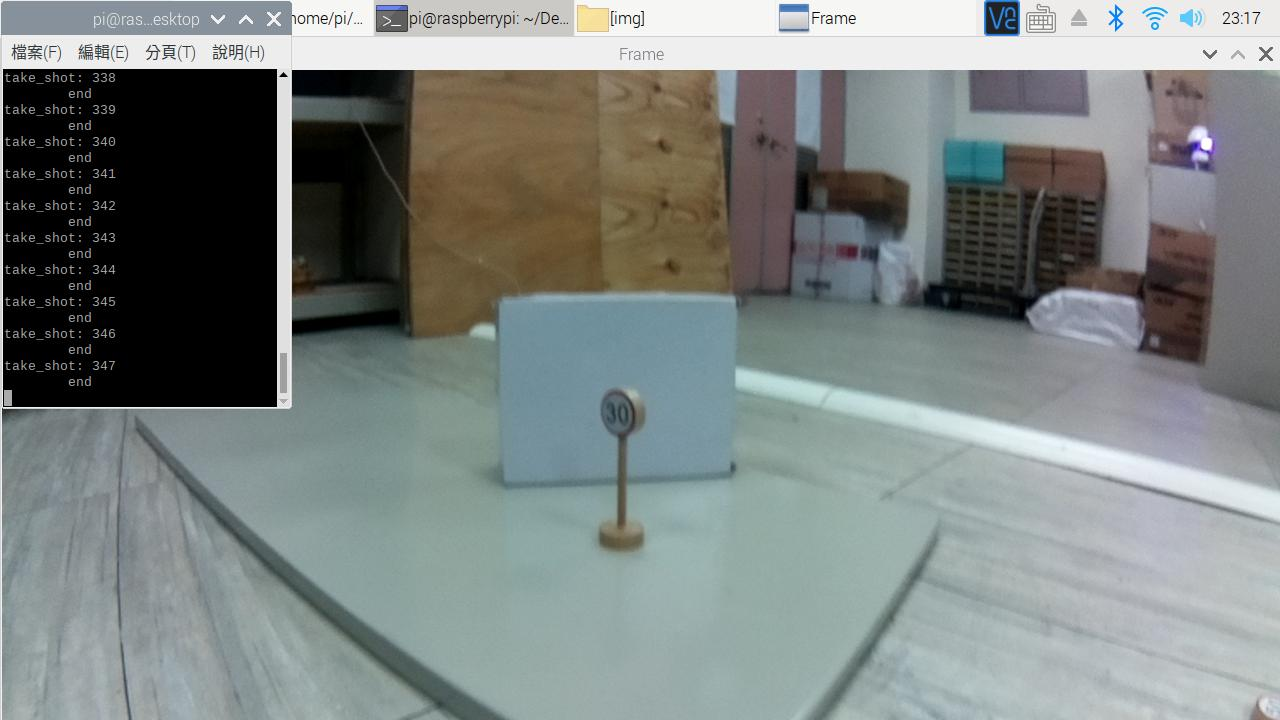Speed30: (586, 378, 657, 444)
